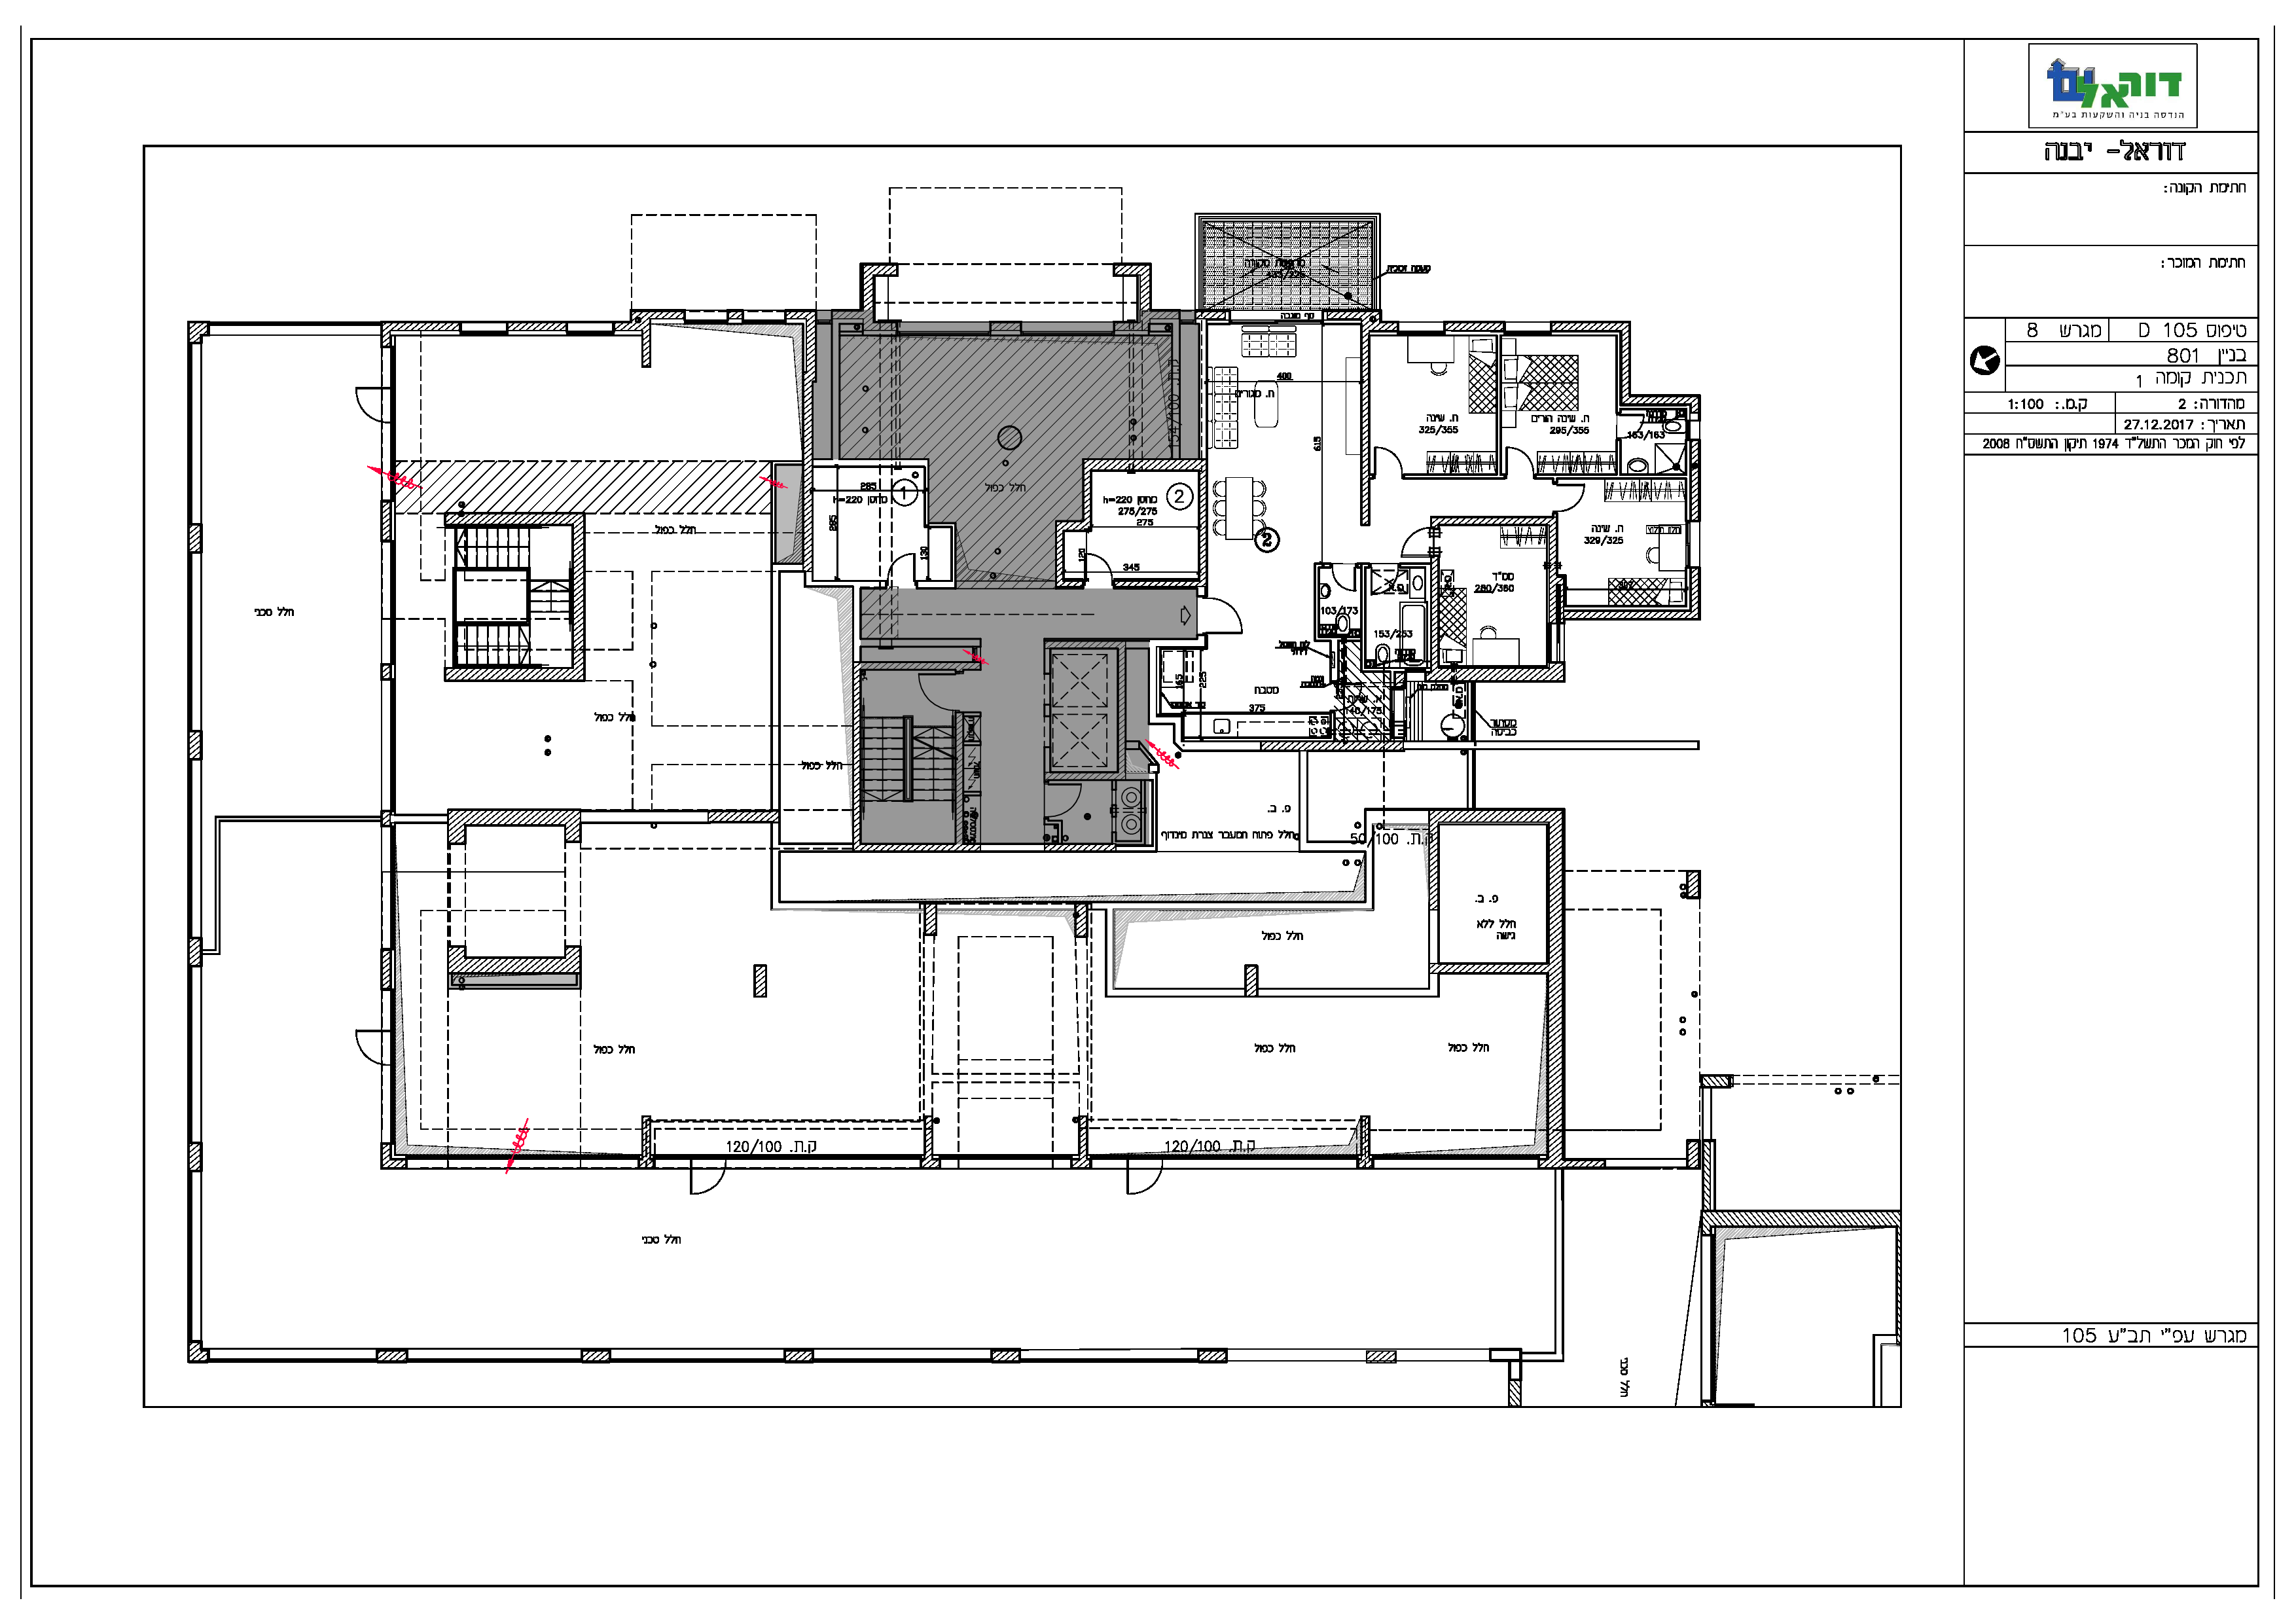door: (334, 376, 378, 438), (1214, 592, 1251, 645), (1114, 1171, 1165, 1204), (680, 1169, 727, 1202), (346, 1021, 378, 1070), (913, 671, 947, 714), (1051, 782, 1086, 821), (1393, 526, 1428, 559), (1562, 480, 1590, 513), (1502, 441, 1532, 471), (1374, 445, 1405, 473), (885, 550, 917, 576), (1328, 573, 1358, 596), (1080, 550, 1112, 571)
wall: (1549, 812, 1563, 1123), (1704, 1211, 1899, 1225), (450, 810, 580, 826), (573, 515, 585, 666), (1430, 810, 1565, 823), (446, 513, 581, 526), (450, 958, 578, 970), (446, 670, 580, 680), (1458, 668, 1558, 680), (1363, 330, 1368, 524), (1551, 322, 1628, 332), (1446, 323, 1504, 330)
